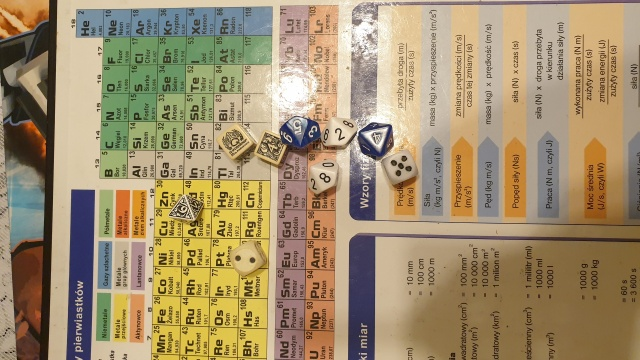d10-2: (318, 112, 357, 152)
d10-4: (366, 128, 385, 149)
d10-5: (278, 117, 319, 150)
d10-8: (304, 158, 340, 196)
d6-2: (227, 241, 271, 280)
d6-5: (381, 152, 421, 185)
d6p-4: (253, 128, 286, 166)
d6p-6: (214, 122, 254, 164)
d8p-6: (168, 192, 200, 225)
